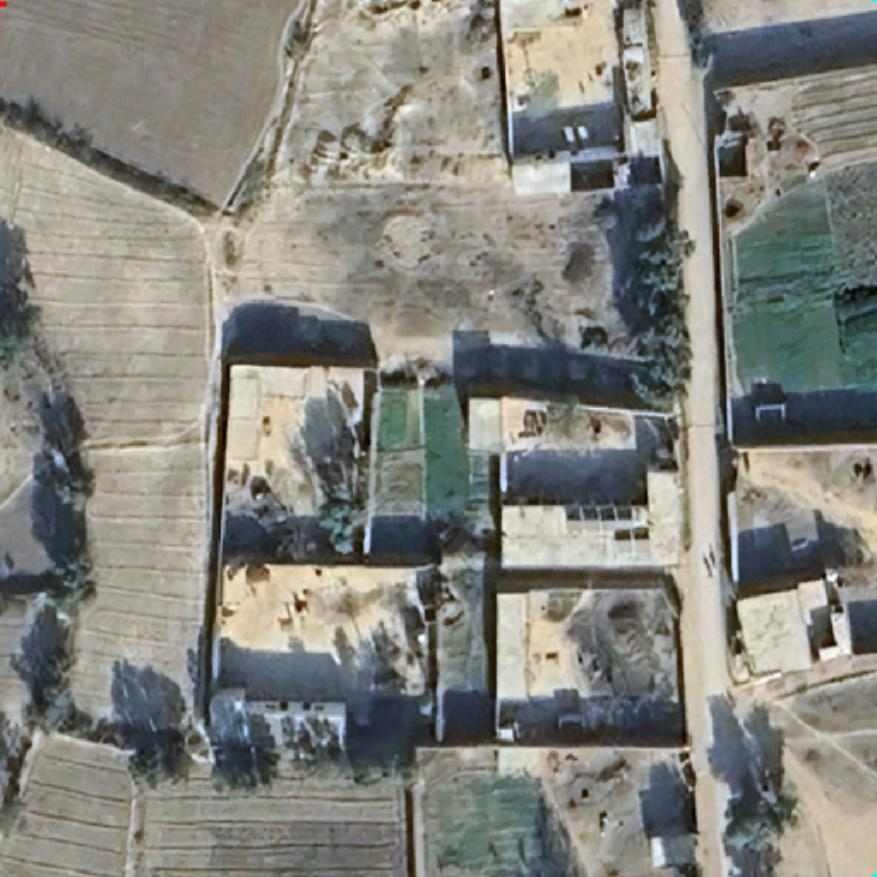Solarpanel: (563, 505, 634, 521), (612, 527, 650, 541)
